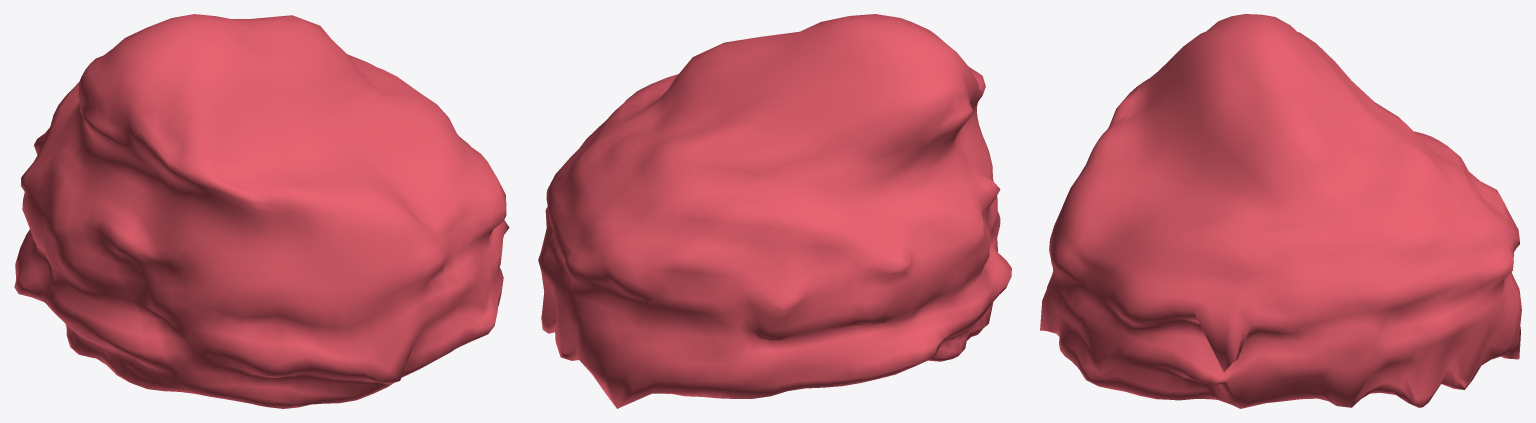
The model's file is heladofresa.fbx.
3 renders of one model, left to right at view 1: azimuth 30°, elevation 25°; view 2: azimuth 150°, elevation 25°; view 3: azimuth 270°, elevation 25°, orthographic. The views are drawn at different scales.
Visible parts, largest first — view 1: Icosphere; view 2: Icosphere; view 3: Icosphere.
Boxes of the visible parts, <box> form: Icosphere: <box>14,14,509,408</box>; Icosphere: <box>538,14,1011,408</box>; Icosphere: <box>1040,14,1521,408</box>.
Size of the model in its own units: 6.49 by 5.04 by 7.23.
